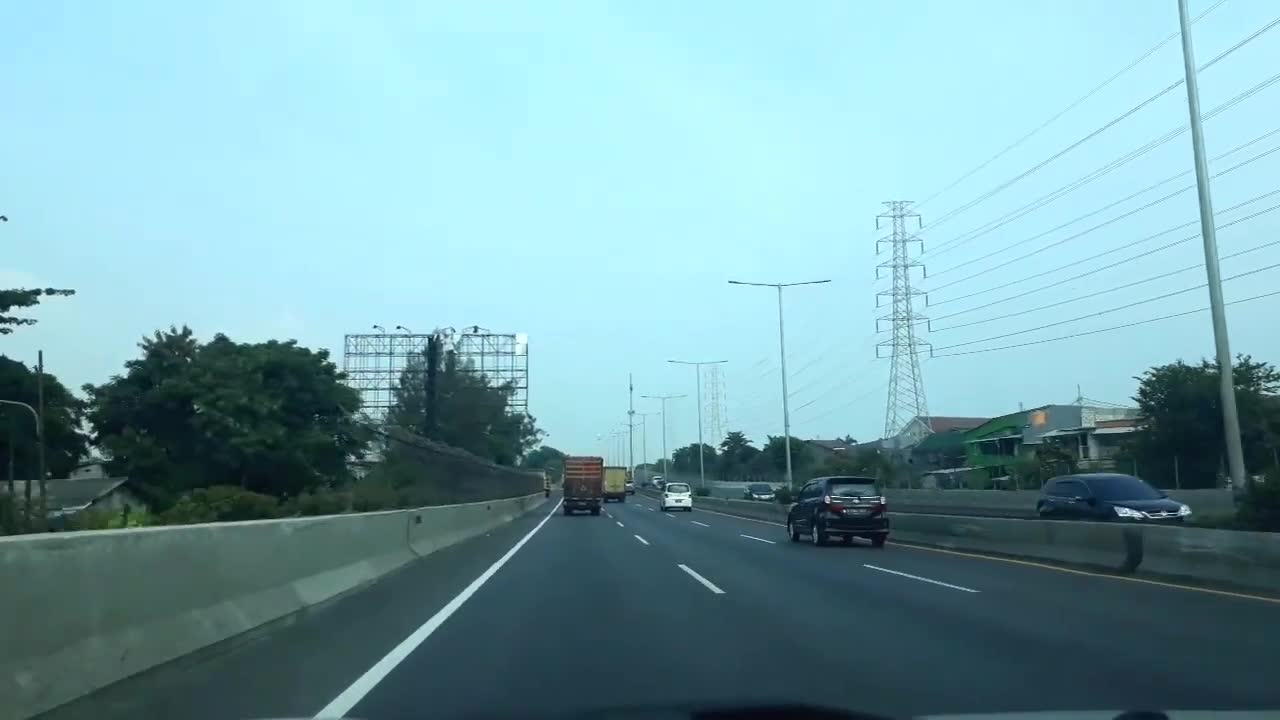plate_positive: (846, 508, 867, 515), (577, 502, 587, 506), (675, 500, 682, 503)
